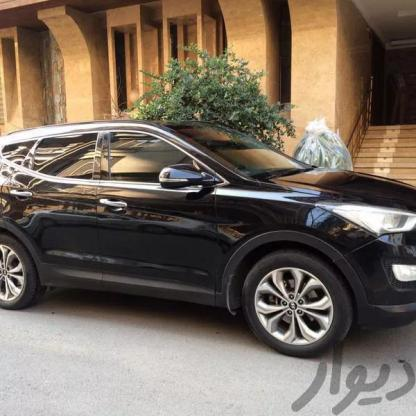Car: (0, 109, 416, 354)
